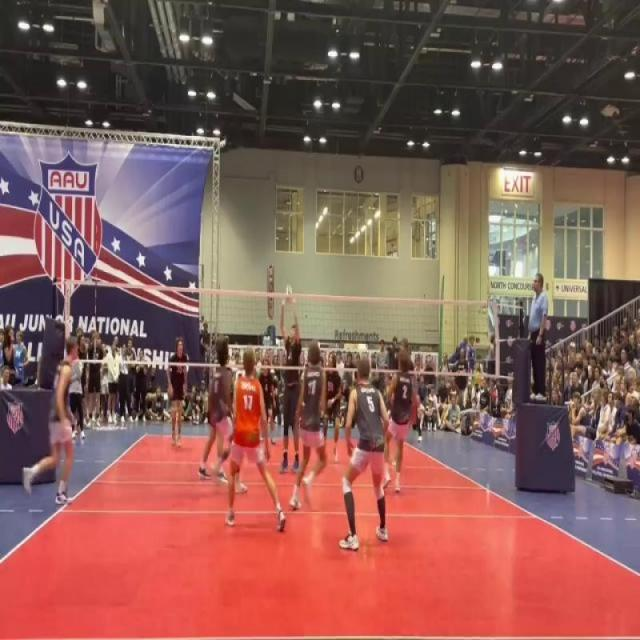volleyball: (284, 282, 294, 306)
